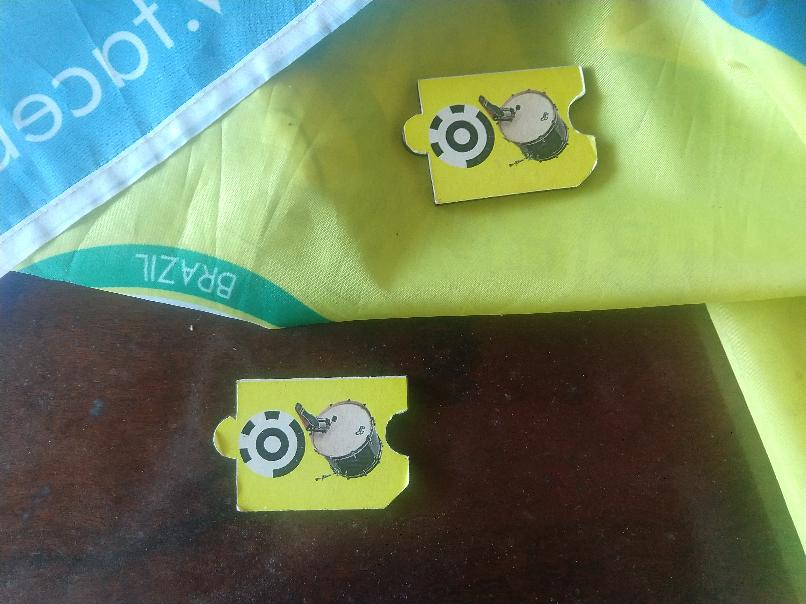bumbo: (395, 64, 601, 209), (210, 375, 413, 514)
